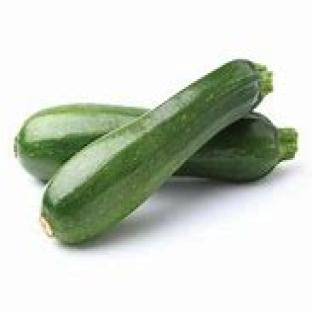Zucchini: (41, 60, 271, 242), (16, 105, 146, 179)
